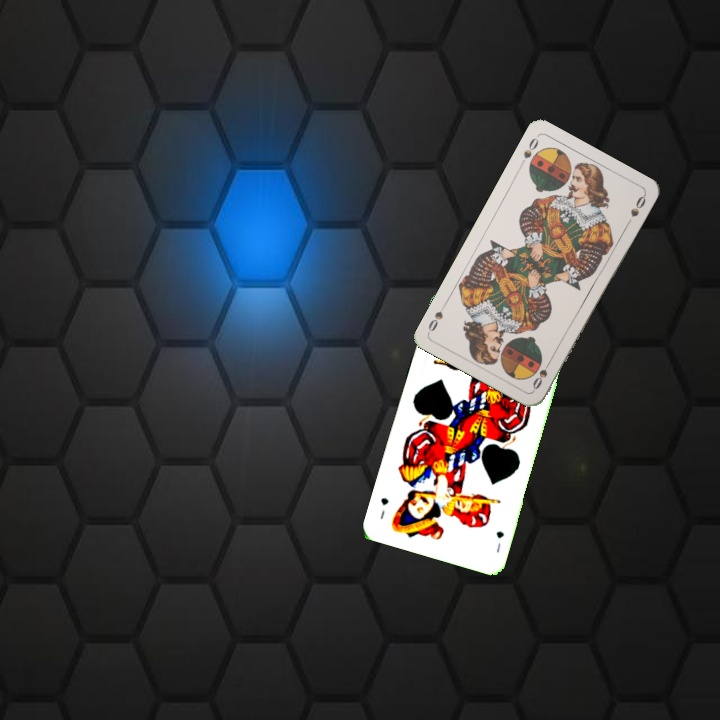GU: (492, 527, 507, 555)
SO: (528, 355, 555, 393), (516, 133, 541, 170)
